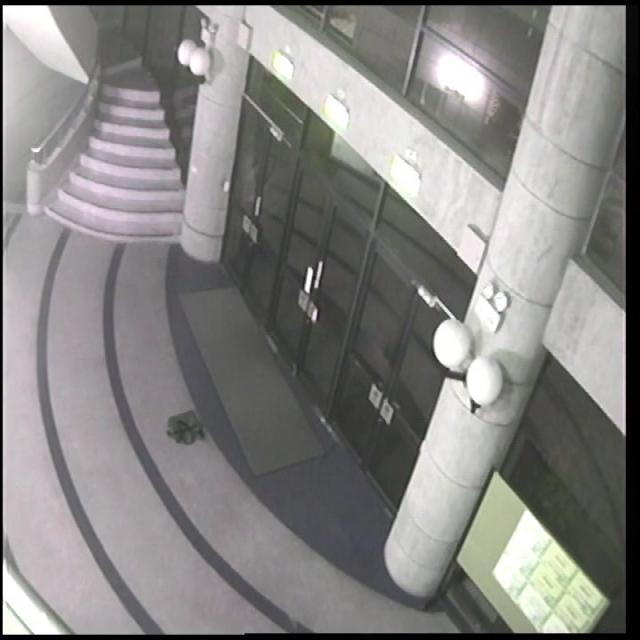abandoned-object: (161, 400, 215, 463)
